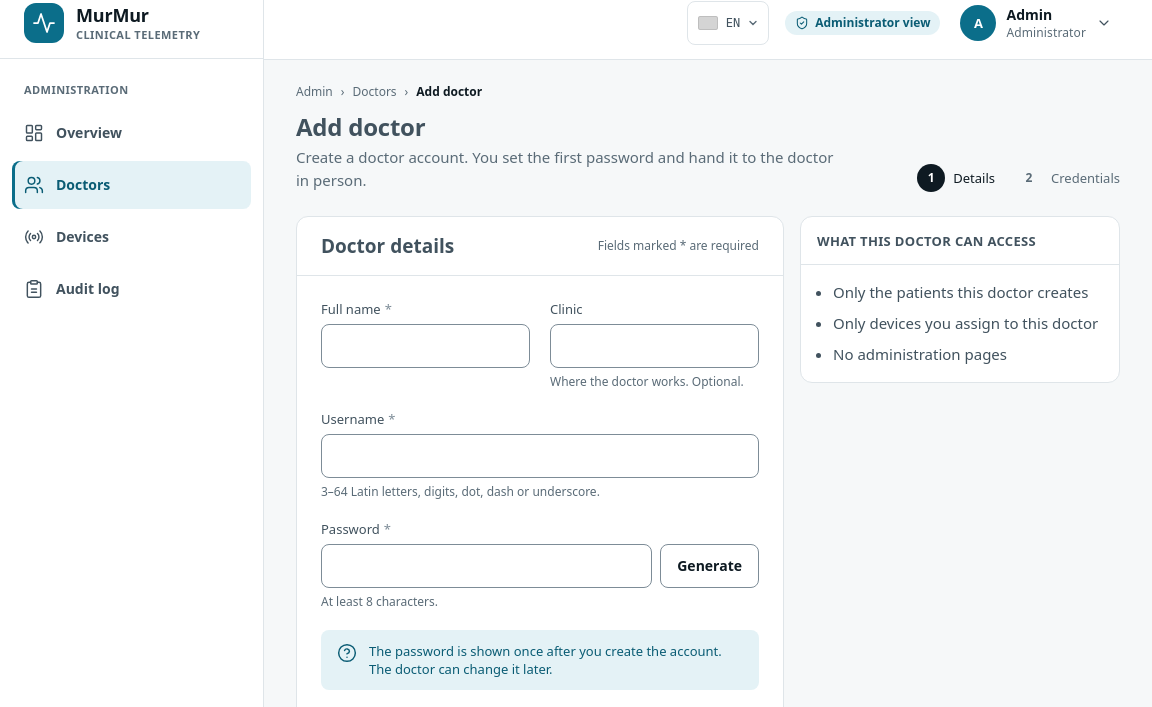
Test: a taken username is explained, not a generic error
Type "Aziz Two" into the field labelled "Full name" at (426, 346), box [321,324,530,368]
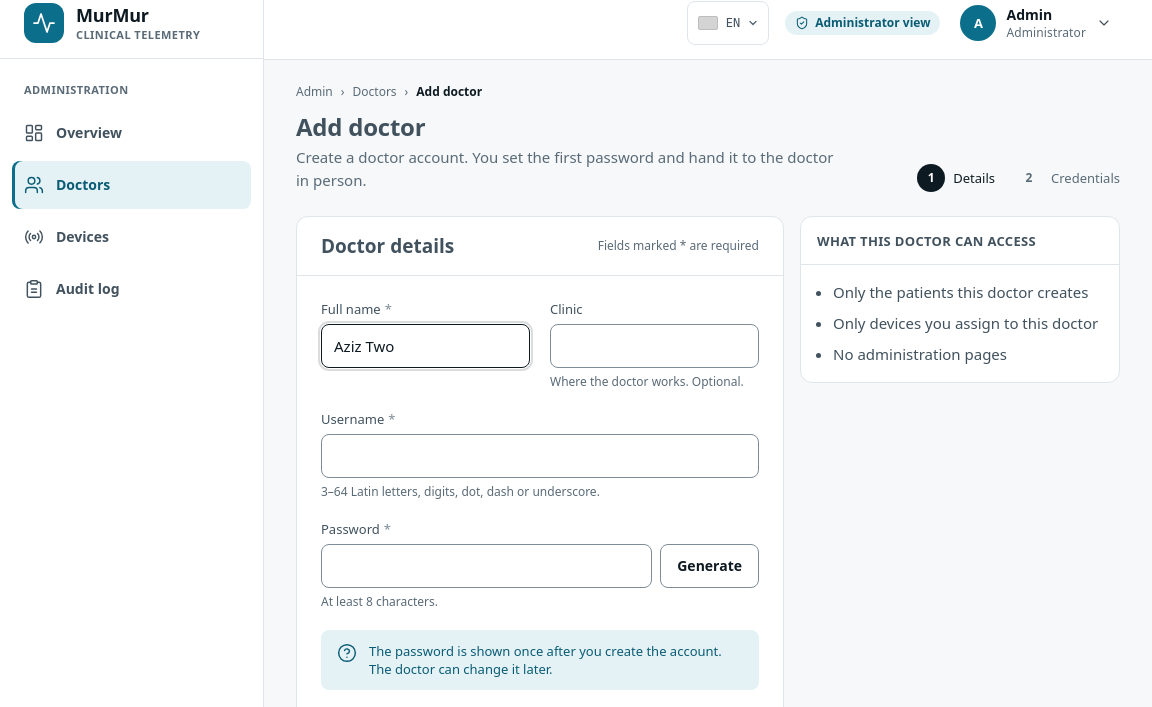
Type "dr.aziz" into the field labelled "Username" at (540, 456), box [321,434,759,478]
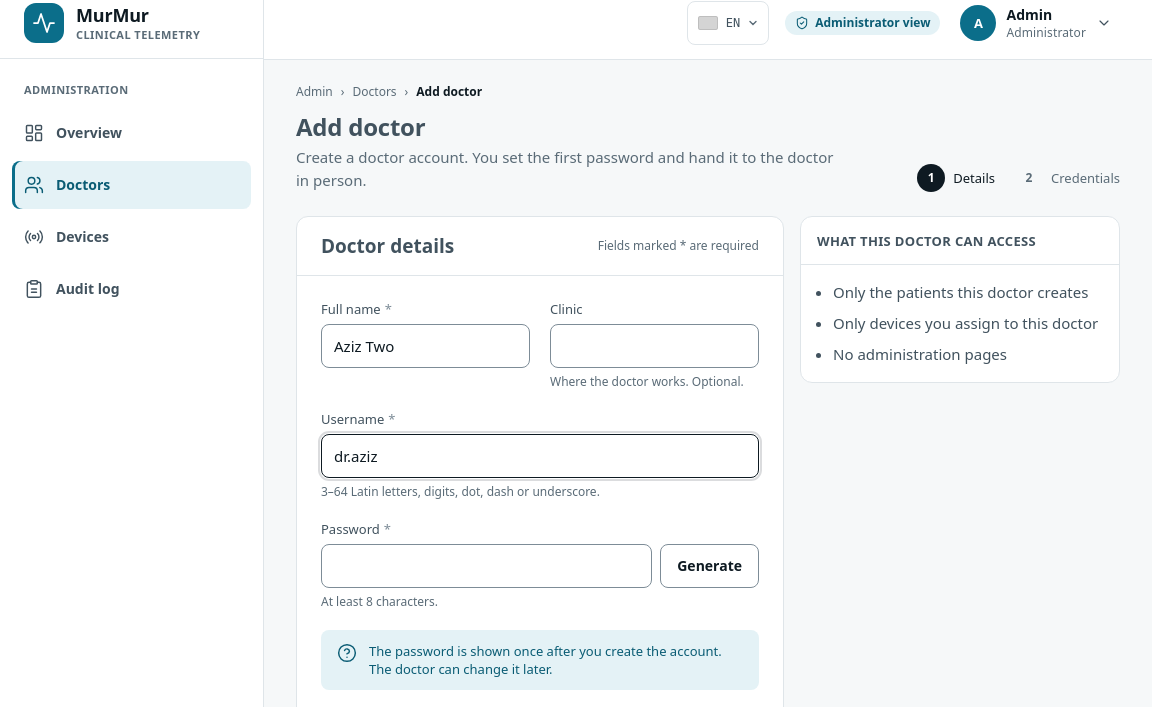
Type "long-enough-1" into the field labelled "Password" at (487, 566), box [321,544,652,588]
(page scrolled)
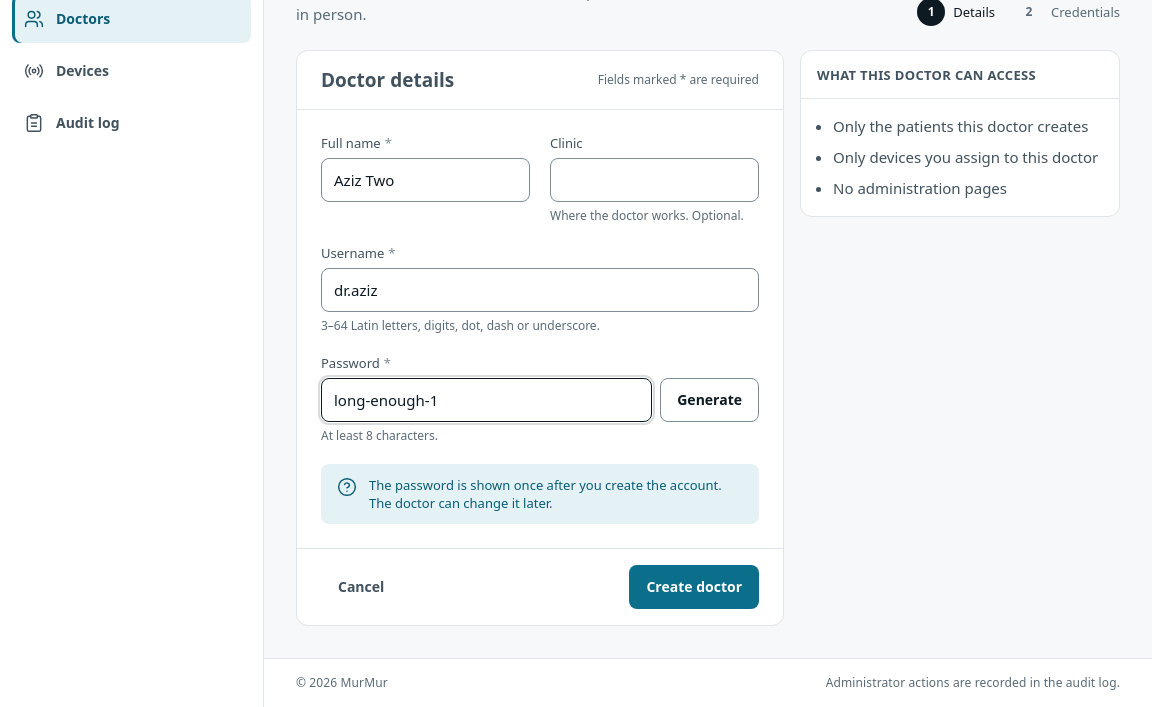
Click the button "Create doctor" at (694, 587), box [630,565,759,609]
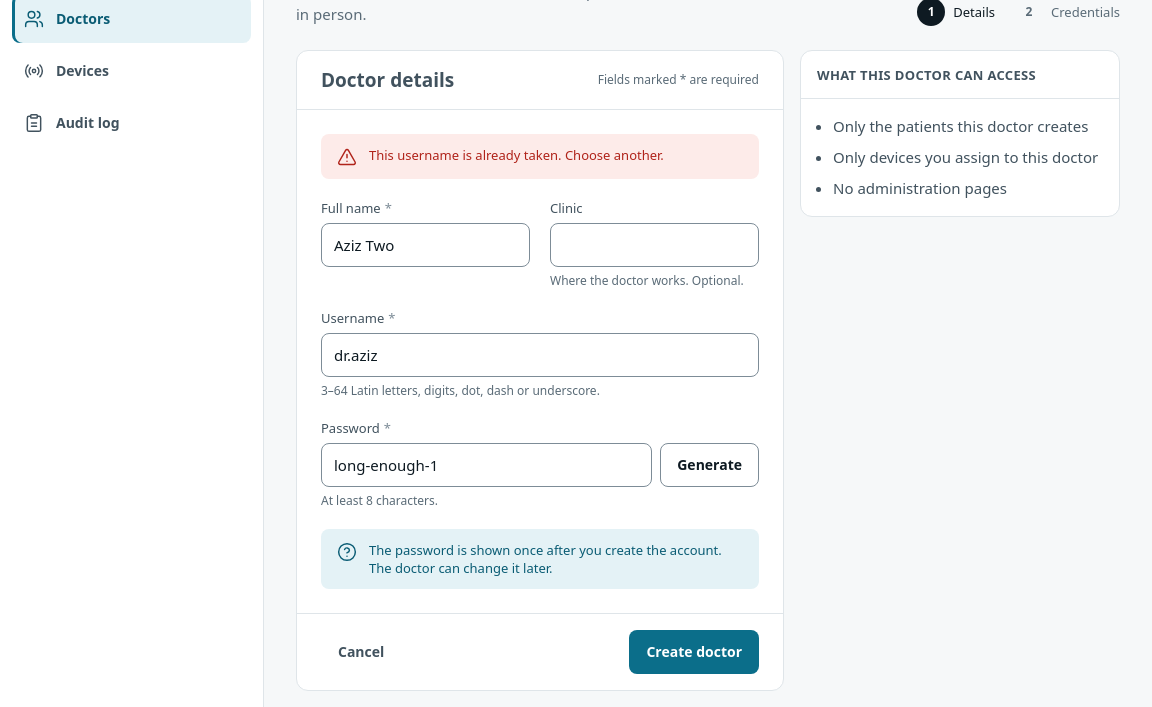
Expected: the text "This username is already taken. Choose another." is shown, [369,146,664,167]
